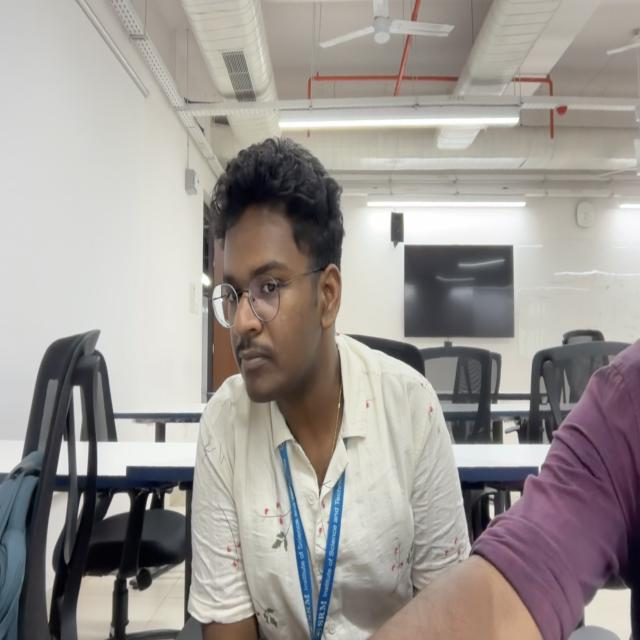sai: (209, 156, 344, 398)
